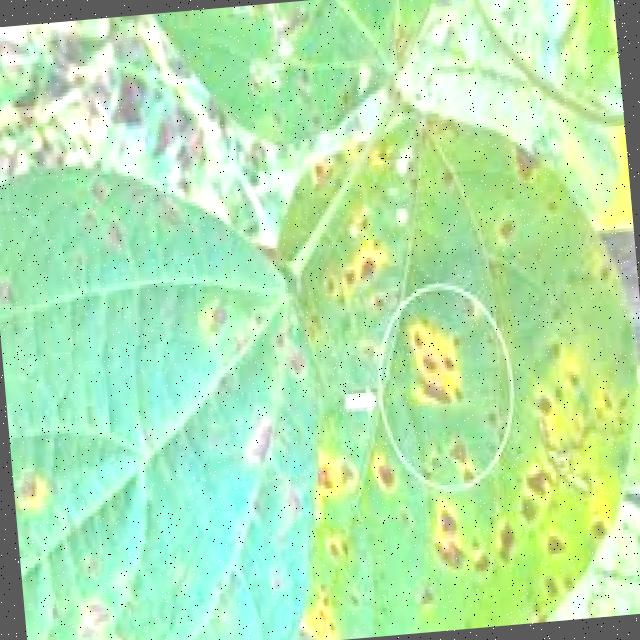leaf spot: (0, 136, 342, 640)
